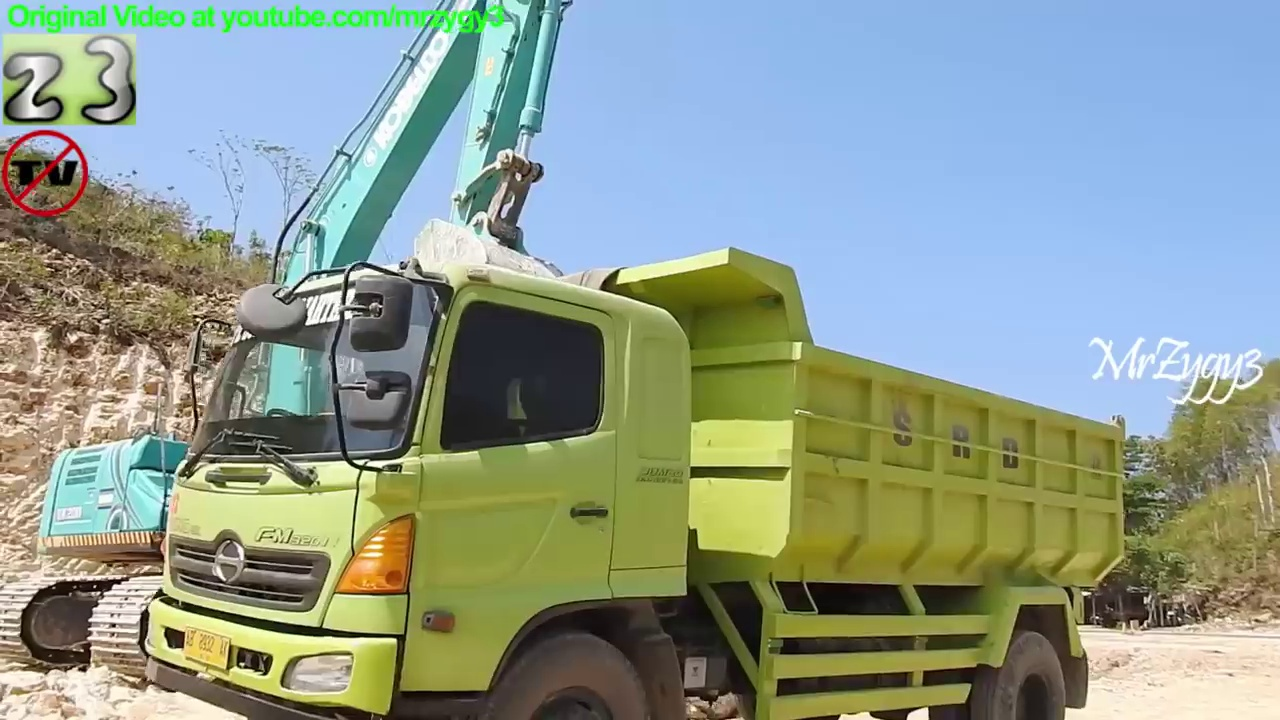excavator: (8, 1, 586, 705)
truck: (138, 243, 1133, 720)
